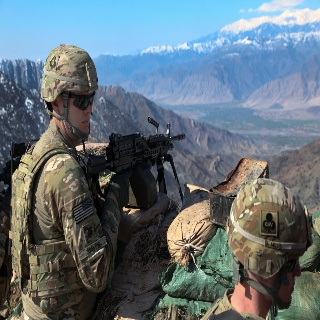rifle: (85, 114, 191, 204)
